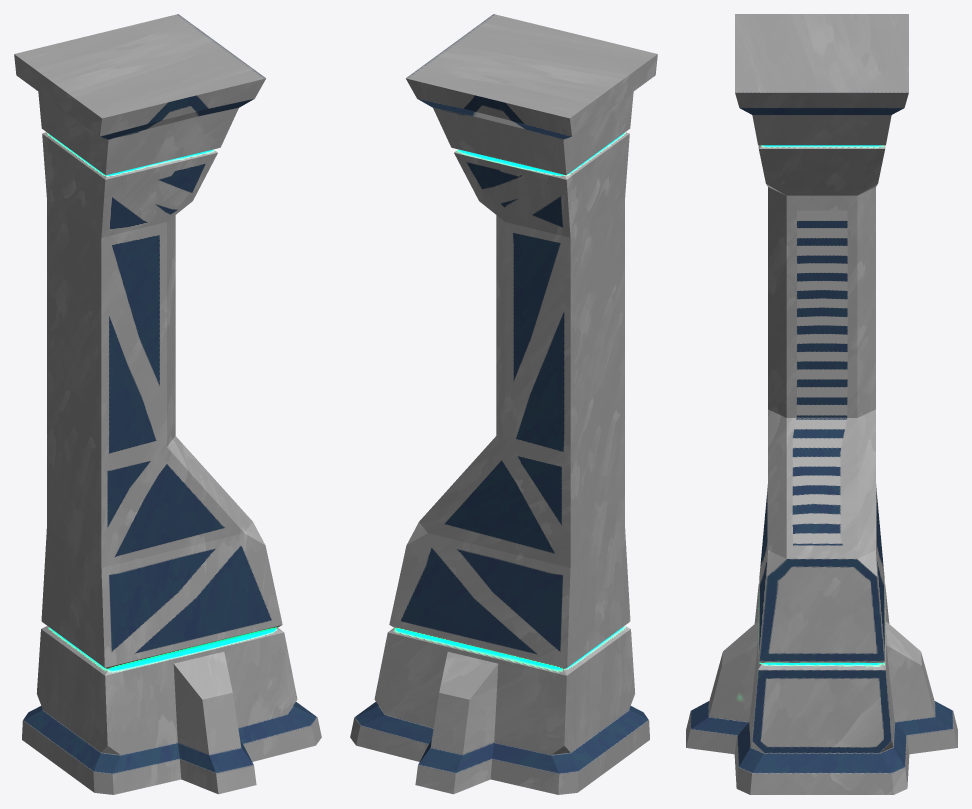
The model's file is pilier_mur_no_support.fbx.
3 renders of one model, left to right at view 1: azimuth 30°, elevation 25°; view 2: azimuth 150°, elevation 25°; view 3: azimuth 270°, elevation 25°, orthographic.
Parts seen in each view (by area): view 1: low.001; view 2: low.001; view 3: low.001.
Boxes of the visible parts, <box> form: low.001: <box>14,14,321,794</box>; low.001: <box>350,14,657,794</box>; low.001: <box>686,14,957,794</box>.
Bounding box in the file's own units: 481 × 1374 × 504.
